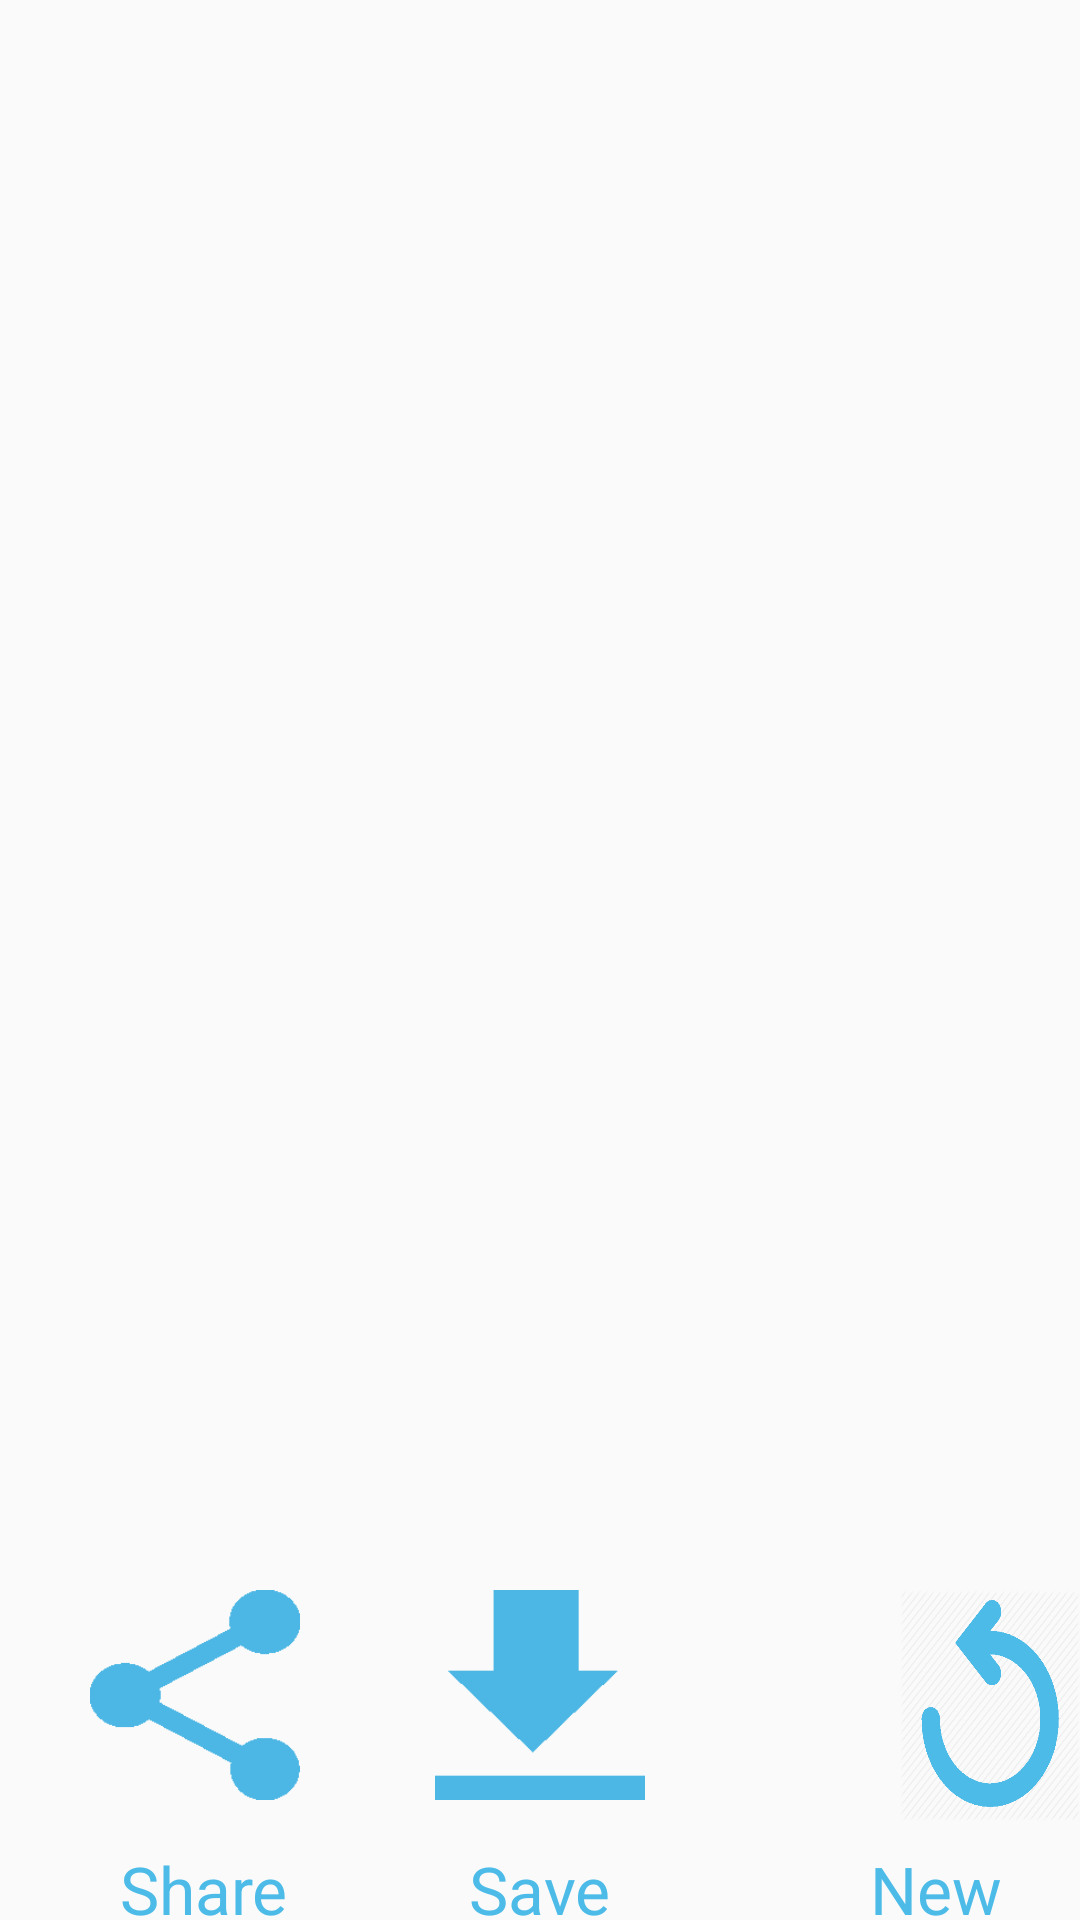

Screen size 1080w x 1920h. Icon name, then its box in pixels as (x1, y1, x2, y2):
start again: (921, 1600, 1059, 1807)
